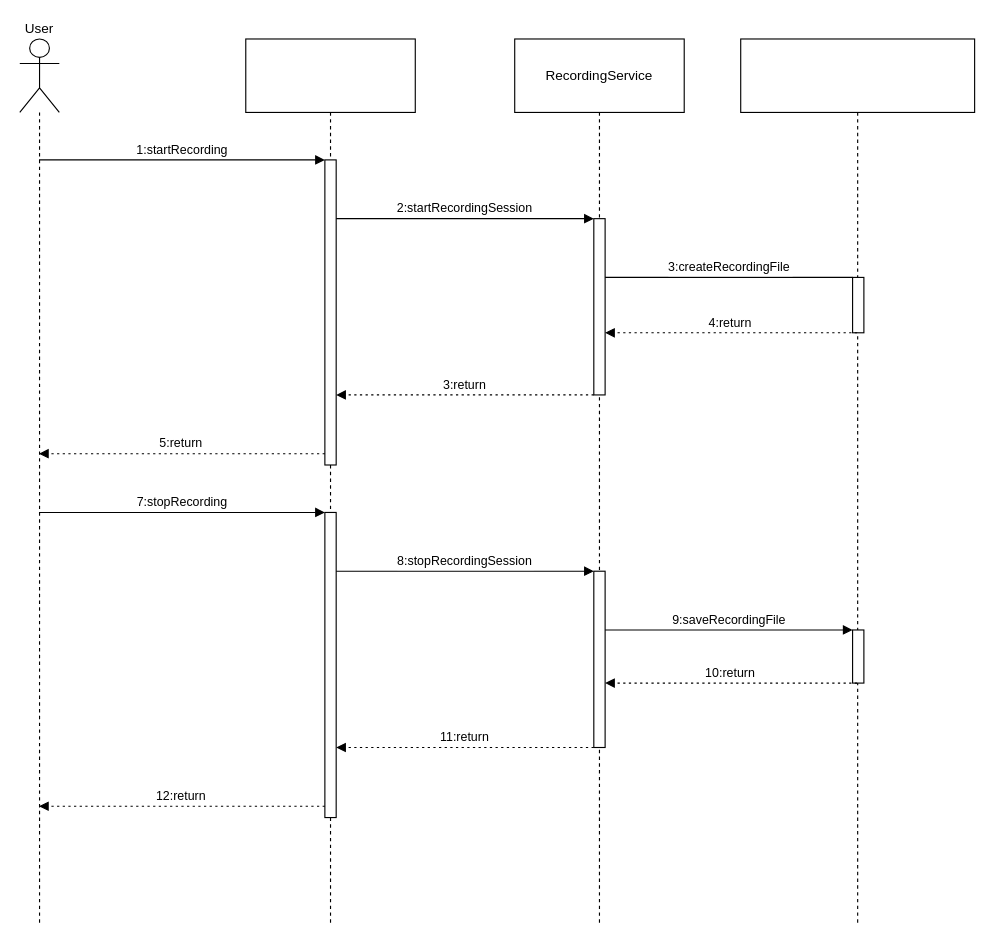
This 994x945 diagram has some shape labels left out. Here are the shapes that lost their labels. From the top down, the box of each, then its label:
(245, 38, 415, 925): RecordingActivity
(740, 38, 975, 925): RecordingContentProvider
